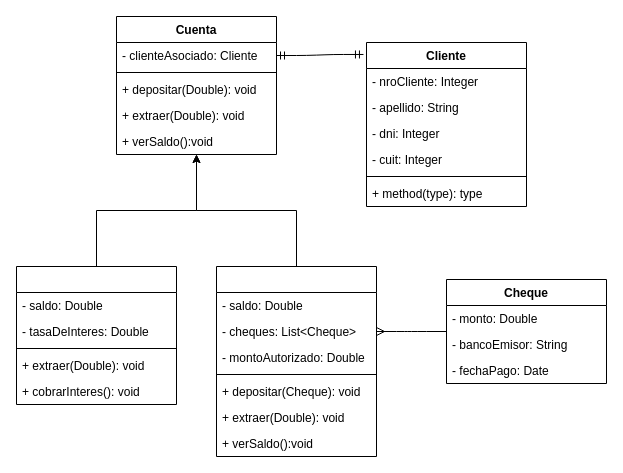
Image size: 623x473. Some labels were removed from this diagram. Each missing label, with the box of its shape:
CajaDeAhorro: (16, 266, 176, 404)
CuentaCorriente: (216, 266, 376, 456)
